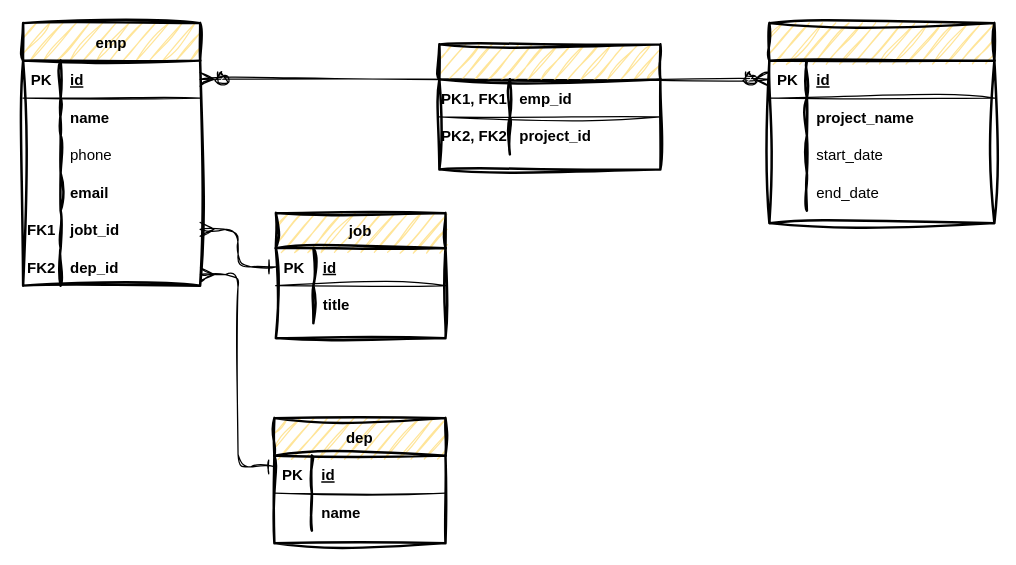
This 1016x565 diagram has some shape labels left out. Each missing label, with the box of its shape:
project_aasignment: (438, 42, 661, 170)
projects: (768, 21, 995, 224)
